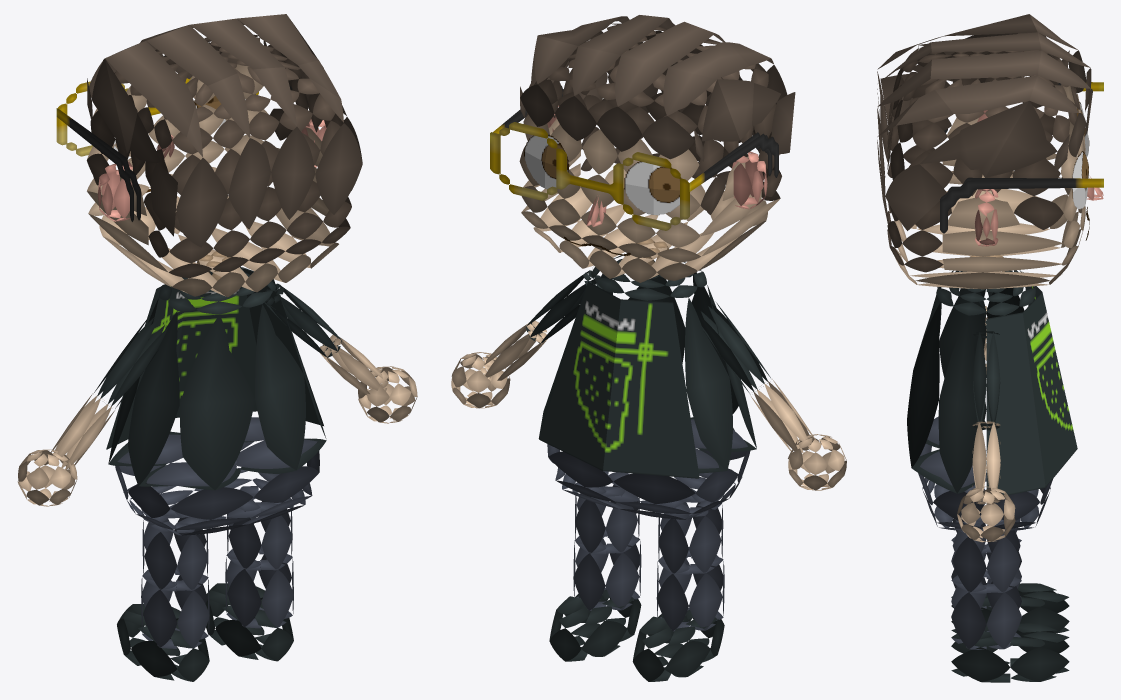
Rendered from Davi.fbx.
3 renders of one model, left to right at view 1: azimuth 30°, elevation 25°; view 2: azimuth 150°, elevation 25°; view 3: azimuth 270°, elevation 25°, orthographic. The views are drawn at different scales.
Visible parts, largest first — view 1: Hair, Torso, Head, Waist, Leg_T_R, Leg_T_L, Leg_B_L, Foot_L, Foot_R, Leg_B_R, Arm_B_L, Glasses (+6 smaller); view 2: Torso, Head, Hair, Waist, Glasses, Foot_L, Foot_R, Eyes_Idle, Leg_T_R, Leg_T_L, Leg_B_L, Leg_B_R (+7 smaller); view 3: Torso, Hair, Head, Foot_R, Leg_T_R, Waist, Leg_B_R, Glasses, Hand_R, Foot_L, Arm_B_R, Arm_T_R (+3 smaller).
Part boxes in pixels (bbox=[...]): Hair: bbox=[87, 14, 362, 247]; Torso: bbox=[106, 251, 326, 490]; Head: bbox=[86, 34, 351, 297]; Waist: bbox=[115, 417, 319, 535]; Leg_T_R: bbox=[225, 546, 293, 628]; Leg_T_L: bbox=[141, 566, 209, 648]; Leg_B_L: bbox=[142, 506, 208, 591]; Foot_L: bbox=[117, 604, 209, 681]; Foot_R: bbox=[205, 583, 293, 661]; Leg_B_R: bbox=[227, 486, 292, 570]; Arm_B_L: bbox=[94, 316, 167, 408]; Glasses: bbox=[56, 77, 292, 221]; Torso: bbox=[538, 238, 756, 478]; Head: bbox=[519, 23, 781, 282]; Hair: bbox=[520, 15, 795, 161]; Waist: bbox=[547, 419, 750, 519]; Glasses: bbox=[490, 86, 778, 230]; Foot_L: bbox=[632, 605, 724, 681]; Foot_R: bbox=[549, 585, 641, 661]; Eyes_Idle: bbox=[524, 134, 681, 215]; Leg_T_R: bbox=[573, 526, 641, 610]; Leg_T_L: bbox=[656, 547, 724, 631]; Leg_B_L: bbox=[658, 493, 723, 574]; Leg_B_R: bbox=[575, 471, 639, 554]; Torso: bbox=[907, 255, 1077, 495]; Hair: bbox=[877, 14, 1092, 230]; Head: bbox=[887, 43, 1085, 289]; Foot_R: bbox=[951, 623, 1069, 682]; Leg_T_R: bbox=[951, 569, 1021, 649]; Waist: bbox=[918, 416, 1052, 530]; Leg_B_R: bbox=[952, 515, 1020, 593]; Glasses: bbox=[940, 82, 1103, 233]; Hand_R: bbox=[957, 486, 1015, 542]; Foot_L: bbox=[951, 583, 1069, 633]; Arm_B_R: bbox=[973, 331, 1000, 430]; Arm_T_R: bbox=[972, 421, 1000, 504].
Size of the model in its own units: 190 by 280 by 97.32.
Materials: 1 (1 with a texture image).
